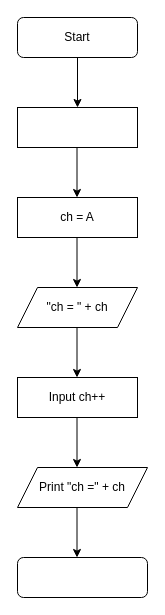
The diagram is 165 pixels wide and 615 high, and some of its shapes have lost their labels. The centre of each missing label's shape, as x and y in pixels:
"Char ch" belongs at [77,127].
"Finish" belongs at [82,577].
